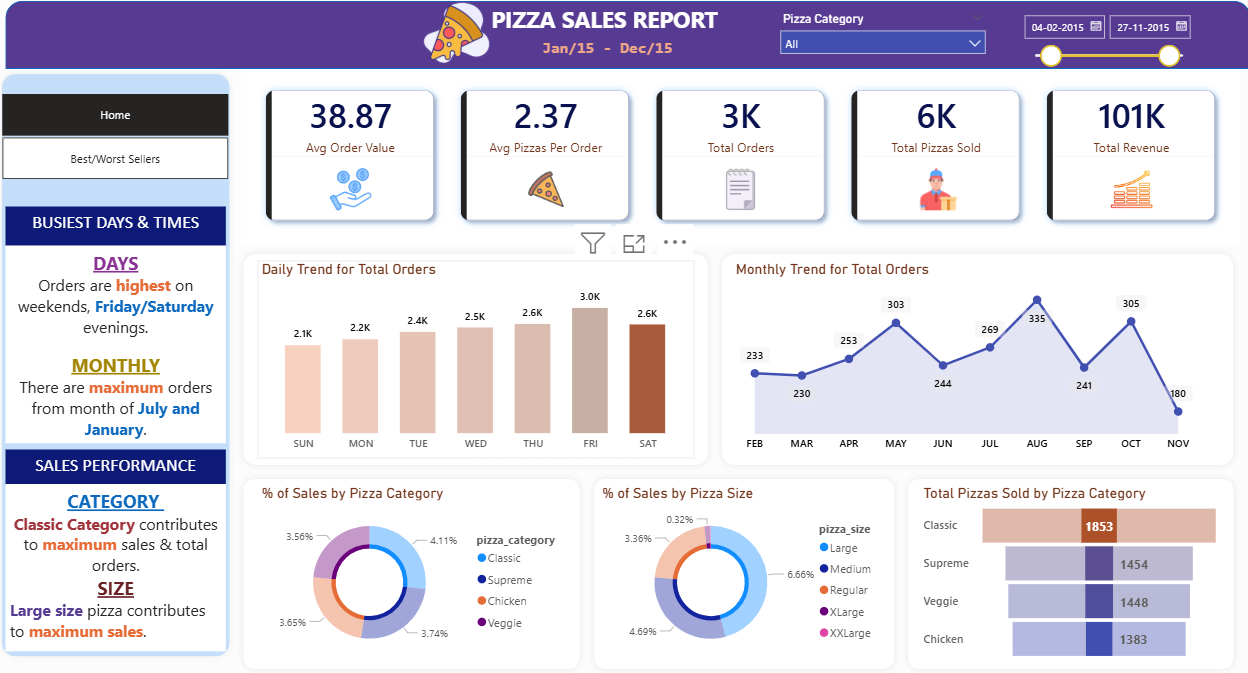

What the dashboard file says about the page in this screenshot:
{"tool":"powerbi","page":{"name":"Home","canvas":[1500,820],"ordinal":0},"visuals":[{"type":"shape","box":[14.3,100,285.7,705.4],"z":0},{"type":"cardVisual","fields":{"Data":["pizza pizza.Avg Order Value","pizza pizza.Avg Pizzas Per Order","pizza pizza.Total Orders","pizza pizza.Total Pizzas Sold","pizza pizza.Total Revenue"]},"box":[305.4,98.2,1182.1,212.5],"z":1000},{"type":"shape","box":[26.8,21.4,1473.2,80.4],"z":2000},{"type":"textbox","box":[596.8,19.4,288.7,45.2],"z":3000},{"type":"textbox","box":[656.7,60,166.7,40],"z":4000},{"type":"image","box":[508.3,20,105,78.3],"z":5000},{"type":"shape","box":[300,312.5,566.1,266.1],"z":6000},{"type":"columnChart","title":"Daily Trend for Total Orders","fields":{"Category":["pizza pizza.Order Day"],"Y":["pizza pizza.Total Orders"]},"box":[325,328.6,516.1,233.9],"z":7000},{"type":"shape","box":[866.1,312.5,621.4,266.1],"z":8000},{"type":"areaChart","title":"Monthly Trend for Total Orders","fields":{"Y":["pizza pizza.Total Orders"],"Category":["pizza pizza.Order Month"]},"box":[885.7,328.6,555.4,233.9],"z":9000},{"type":"shape","box":[300,578.6,414.3,241.1],"z":10000},{"type":"shape","box":[714.3,578.6,371.4,241.1],"z":11000},{"type":"shape","box":[1085.7,578.6,401.8,241.1],"z":12000},{"type":"donutChart","title":"% of Sales by Pizza Category","fields":{"Category":["pizza pizza.pizza_category"],"Y":["pizza pizza.Total Revenue"]},"box":[325,592.9,373.2,212.5],"z":13000},{"type":"donutChart","title":"% of Sales by Pizza Size","fields":{"Y":["pizza pizza.Total Revenue"],"Series":["pizza pizza.pizza_size"]},"box":[726.8,592.9,346.4,212.5],"z":14000},{"type":"funnel","title":"Total Pizzas Sold by Pizza Category","fields":{"Category":["pizza pizza.pizza_category"],"Y":["pizza pizza.Total Pizzas Sold"]},"box":[1107.1,592.9,360.7,212.5],"z":15000},{"type":"textbox","box":[26.8,264.3,260.7,46.4],"z":16000},{"type":"textbox","box":[26.8,310.7,260.7,233.9],"z":17000},{"type":"textbox","box":[26.8,551.8,260.7,41.1],"z":18000},{"type":"textbox","box":[26.8,592.9,260.7,198.2],"z":19000},{"type":"slicer","fields":{"Values":["pizza pizza.pizza_category"]},"box":[933.9,28.6,262.5,62.5],"z":20000},{"type":"slicer","fields":{"Values":["pizza pizza.order_date"]},"box":[1219.6,28.6,221.4,73.2],"z":21000},{"type":"pageNavigator","box":[23.2,132.1,267.9,50],"z":22000},{"type":"pageNavigator","box":[23.2,182.1,267.9,50],"z":23000}]}

Visuals, with their boxes in screenshot pixels (x1, y1, x2, y2), scaled from the page's 1500x820 canvas onto the 1248x673 screenshot:
shape: bbox=[12, 82, 250, 661]
cardVisual - pizza pizza.Avg Order Value x pizza pizza.Avg Pizzas Per Order: bbox=[254, 81, 1238, 255]
shape: bbox=[22, 18, 1247, 84]
textbox: bbox=[497, 16, 737, 53]
textbox: bbox=[546, 49, 685, 82]
image: bbox=[423, 16, 510, 81]
shape: bbox=[250, 256, 721, 475]
"Daily Trend for Total Orders" columnChart: bbox=[270, 270, 700, 462]
shape: bbox=[721, 256, 1238, 475]
"Monthly Trend for Total Orders" areaChart: bbox=[737, 270, 1199, 462]
shape: bbox=[250, 475, 594, 672]
shape: bbox=[594, 475, 903, 672]
shape: bbox=[903, 475, 1238, 672]
"% of Sales by Pizza Category" donutChart: bbox=[270, 487, 581, 661]
"% of Sales by Pizza Size" donutChart: bbox=[605, 487, 893, 661]
"Total Pizzas Sold by Pizza Category" funnel: bbox=[921, 487, 1221, 661]
textbox: bbox=[22, 217, 239, 255]
textbox: bbox=[22, 255, 239, 447]
textbox: bbox=[22, 453, 239, 487]
textbox: bbox=[22, 487, 239, 649]
slicer - pizza pizza.pizza_category: bbox=[777, 23, 995, 75]
slicer - pizza pizza.order_date: bbox=[1015, 23, 1199, 84]
pageNavigator: bbox=[19, 108, 242, 149]
pageNavigator: bbox=[19, 149, 242, 190]
